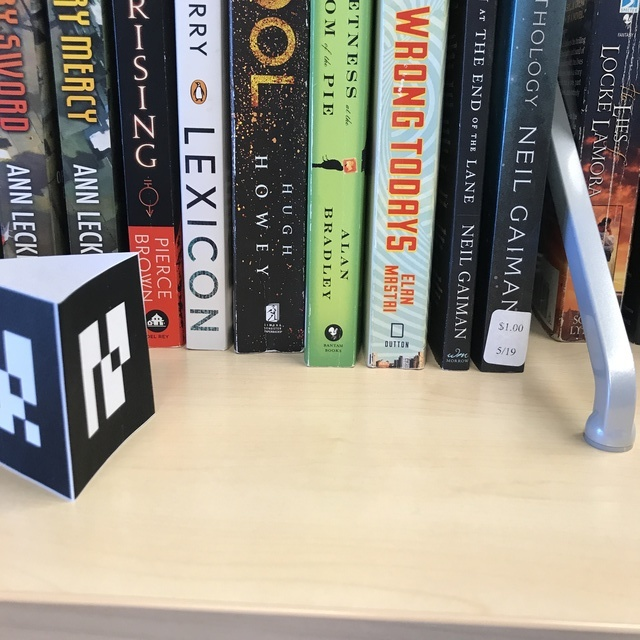ARTag: (1, 252, 155, 501)
